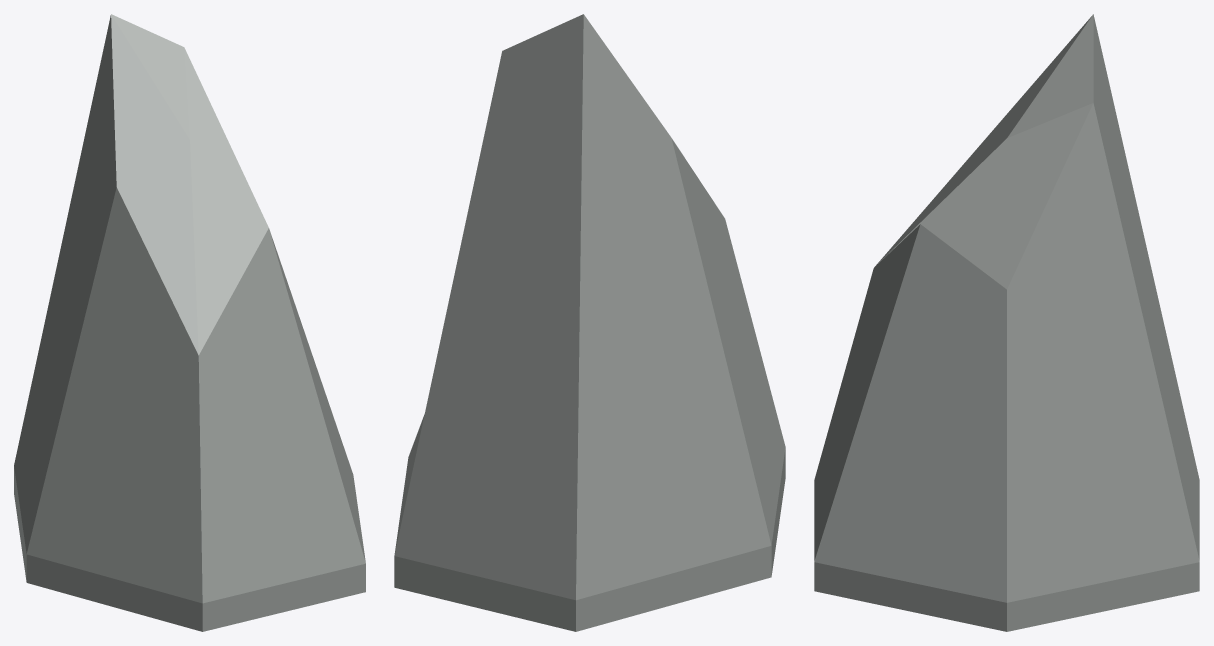
The model's file is Mountain6.fbx.
3 views of the same model, side by side, from view 1: azimuth 30°, elevation 25°; view 2: azimuth 150°, elevation 25°; view 3: azimuth 270°, elevation 25° (orthographic). The views are drawn at different scales.
Parts seen in each view (by area): view 1: Mountain6; view 2: Mountain6; view 3: Mountain6.
Boxes of the visible parts, <box> form: Mountain6: <box>14,14,365,631</box>; Mountain6: <box>394,14,785,631</box>; Mountain6: <box>814,14,1199,631</box>.
Size of the model in its own units: 1200 by 1779 by 1200.
